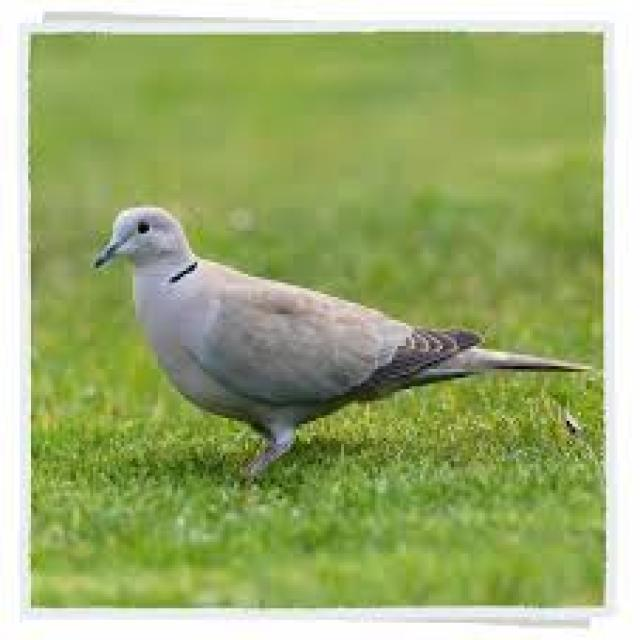pigeon: (95, 187, 582, 490)
